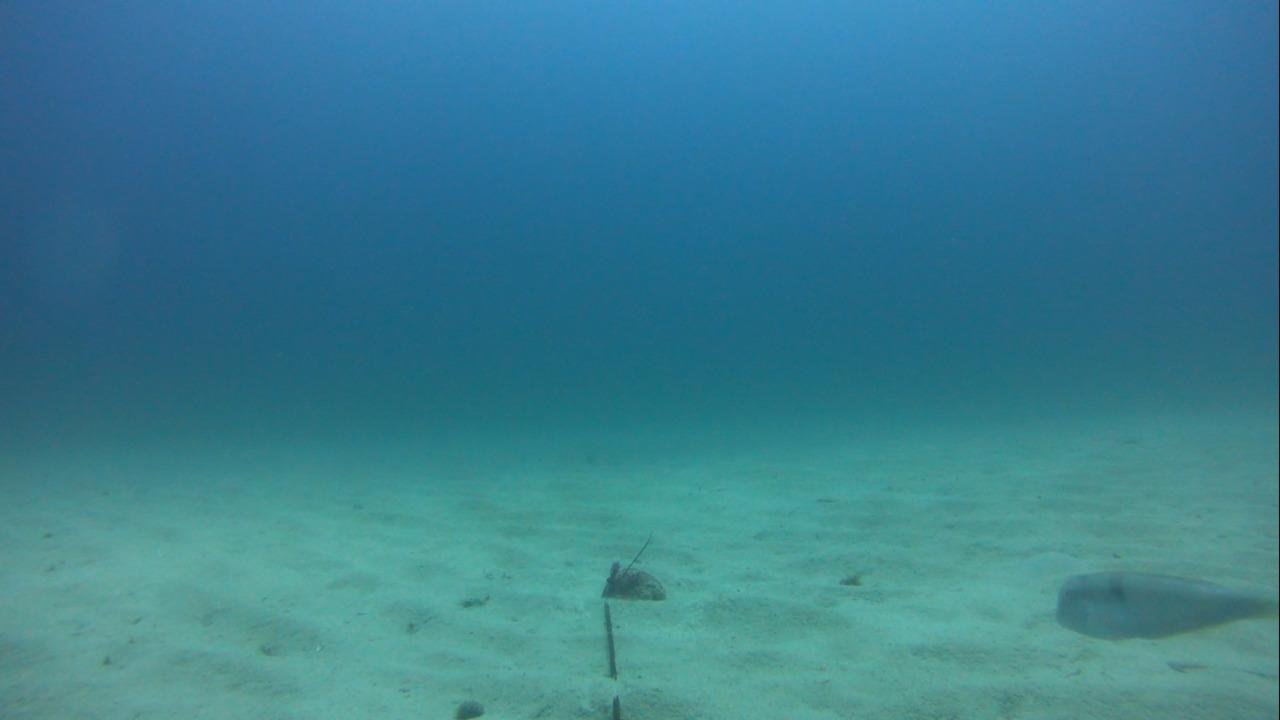raor: (1051, 566, 1277, 646)
